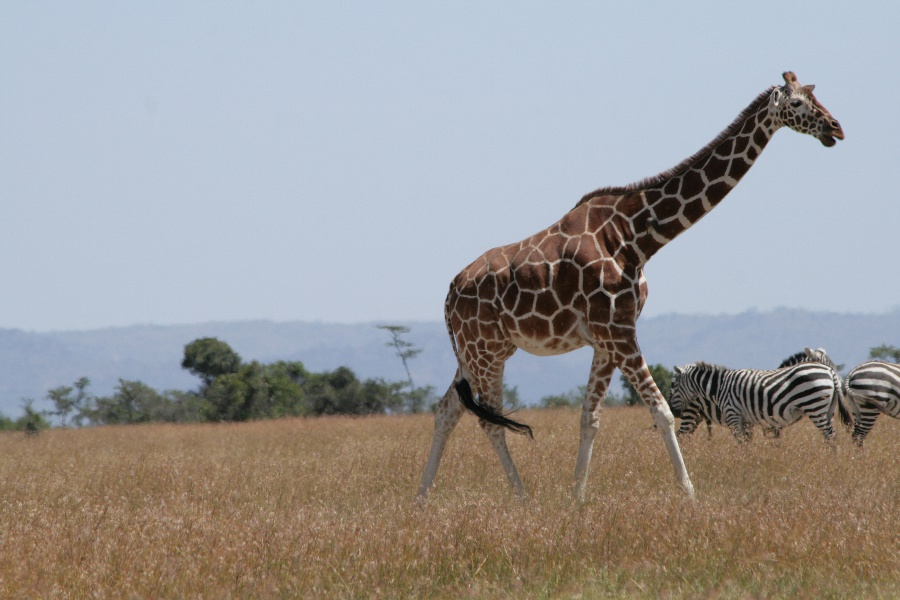giraffe: (413, 63, 850, 503)
